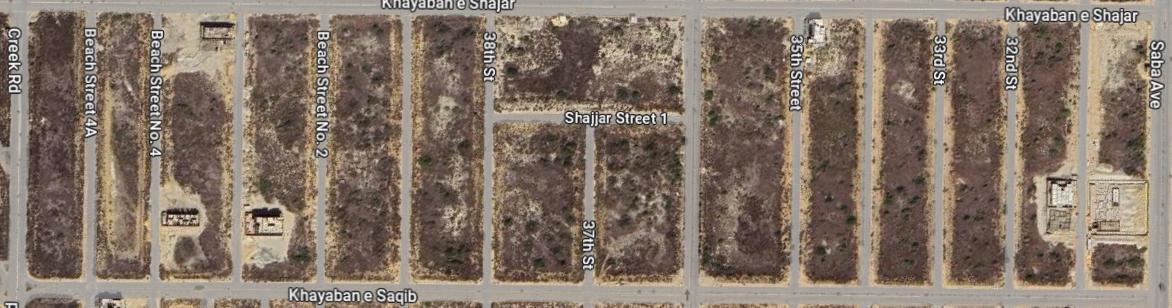Buildings: (700, 20, 791, 280), (327, 15, 403, 280), (159, 18, 237, 275), (245, 17, 319, 279), (496, 17, 687, 117), (413, 16, 486, 275), (873, 18, 938, 285), (942, 18, 1006, 283), (1088, 15, 1148, 285), (1017, 18, 1076, 283), (801, 21, 860, 282), (94, 16, 151, 276), (27, 14, 83, 275), (495, 123, 578, 278), (598, 125, 678, 281)
